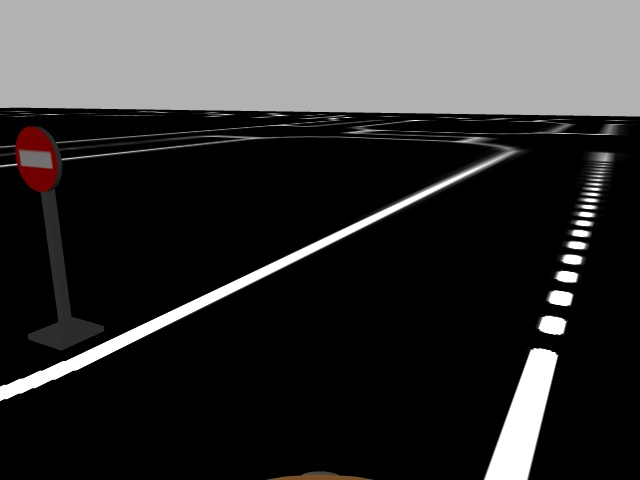prohibited: (13, 125, 65, 196)
